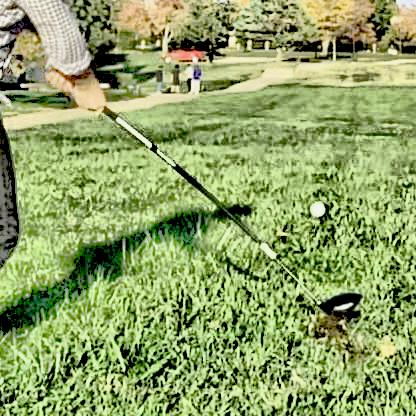golfball: (306, 199, 321, 214)
